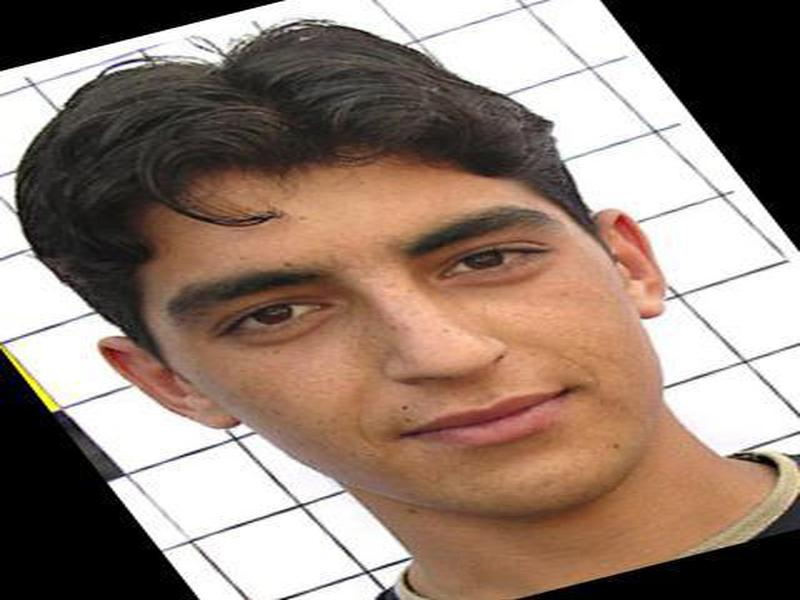without_mask: (119, 144, 663, 521)
